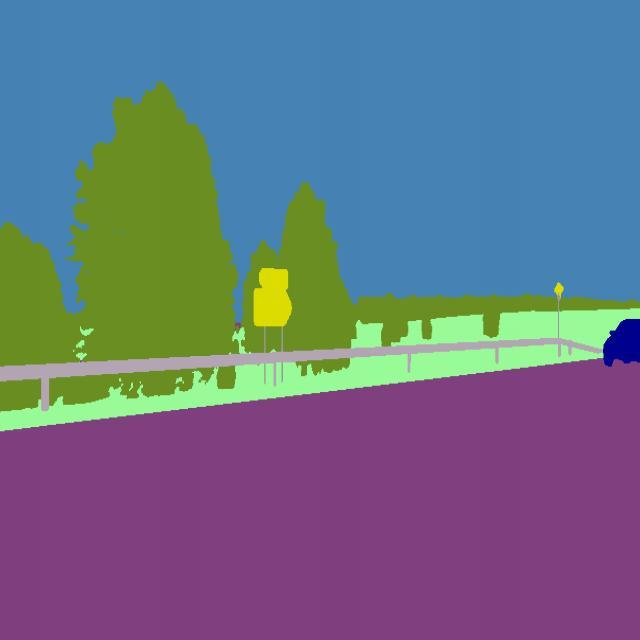safe: (595, 304, 640, 374)
